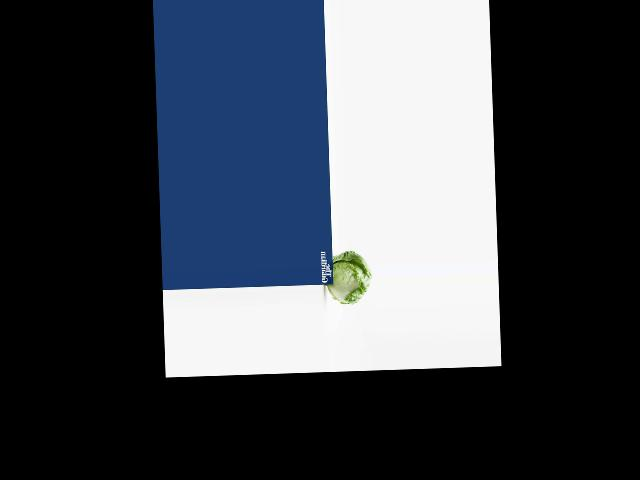lettuce: (326, 251, 375, 304)
